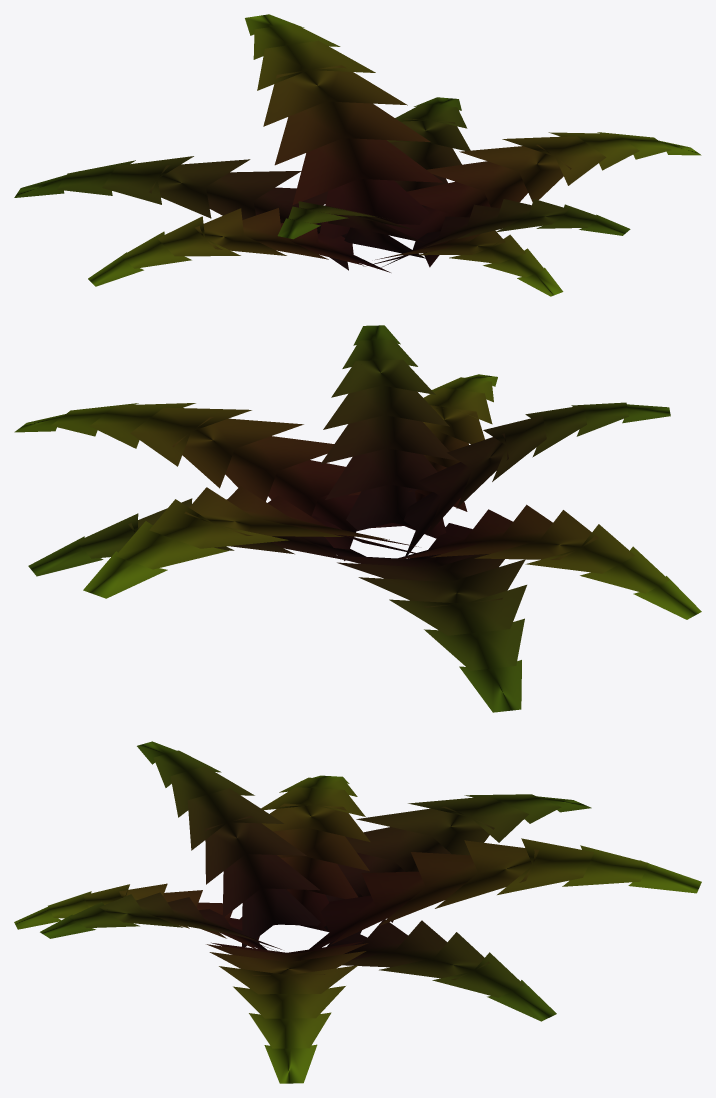
The model's file is fern_b.glb.
The picture shows the model from 3 angles, top to bottom: view 1: azimuth 30°, elevation 25°; view 2: azimuth 150°, elevation 25°; view 3: azimuth 270°, elevation 25°; orthographic projection. The views are drawn at different scales.
Parts seen in each view (by area): view 1: fern_b; view 2: fern_b; view 3: fern_b.
Boxes of the visible parts, bbox=[...] form: fern_b: bbox=[14, 14, 701, 296]; fern_b: bbox=[14, 325, 701, 712]; fern_b: bbox=[14, 741, 701, 1083].
Size of the model in its own units: 2.49 by 0.427 by 2.34.
1 material, 1 textured.
